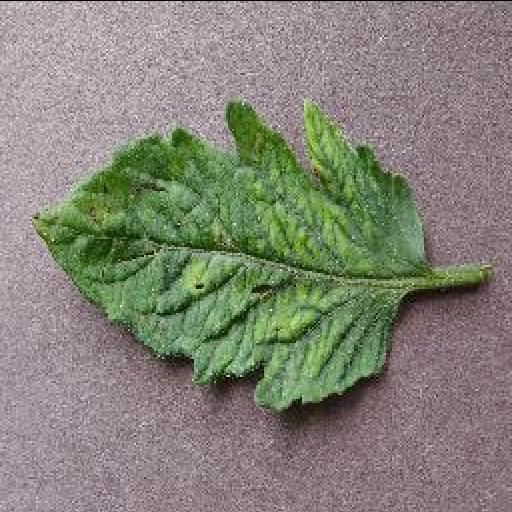Mosaic Virus: (28, 93, 430, 411)
